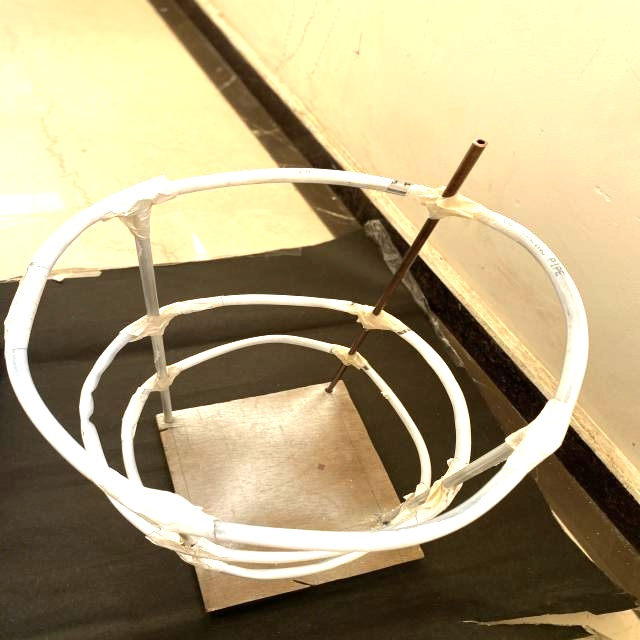silo: (0, 149, 602, 606)
